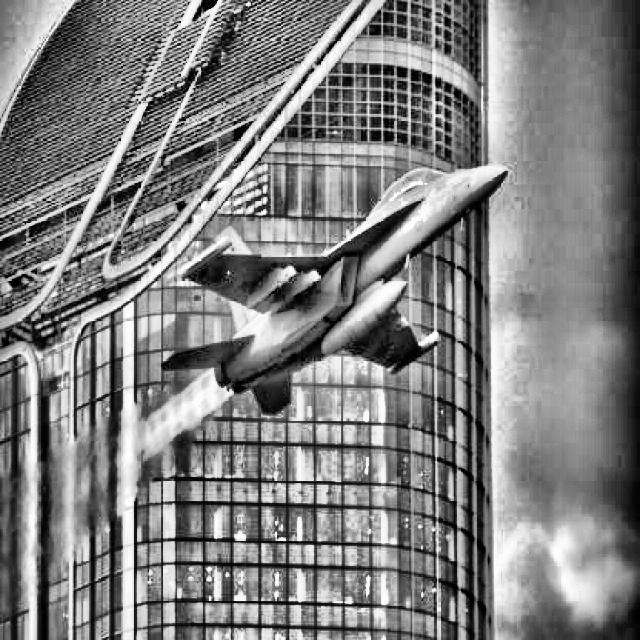F18: (160, 164, 508, 416)
